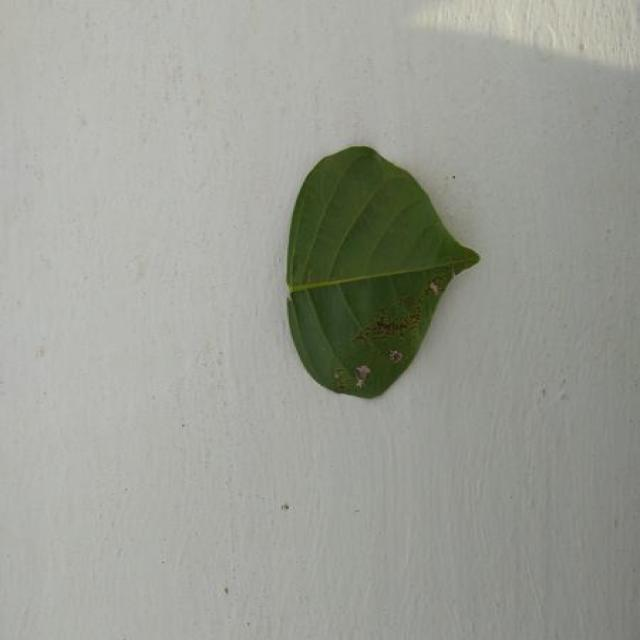honge: (288, 146, 478, 397)
